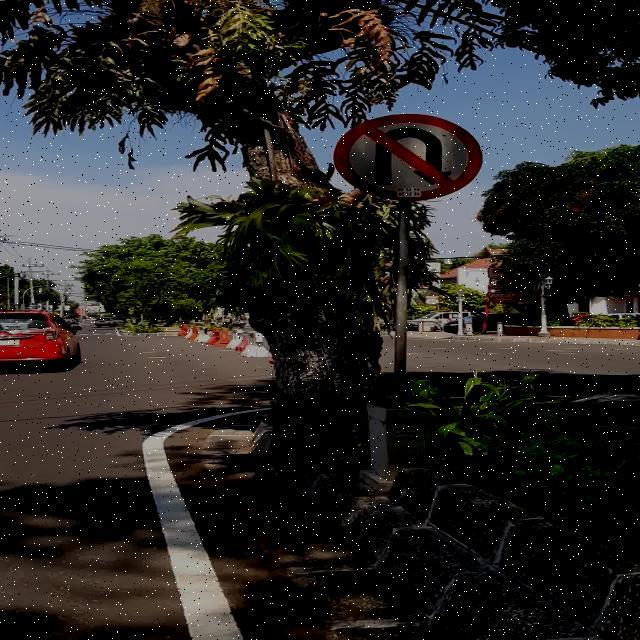Dilarang Putar Balik: (333, 113, 482, 201)
